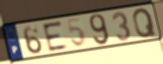3: (111, 10, 133, 43)
5: (65, 18, 88, 49)
6: (22, 25, 44, 55)
9: (88, 13, 110, 46)
E: (41, 20, 70, 53)
Q: (132, 6, 158, 39)
